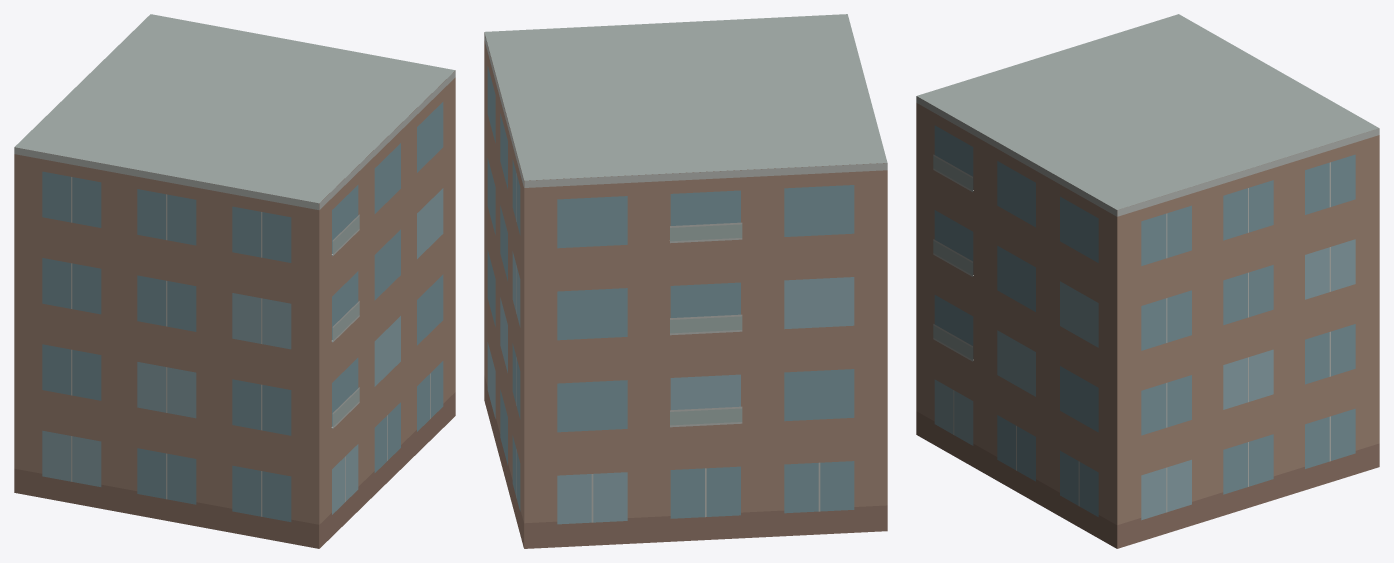
The model's file is survey-upis-32711302.glb.
3 views of the same model, side by side, from view 1: azimuth 30°, elevation 25°; view 2: azimuth 150°, elevation 25°; view 3: azimuth 270°, elevation 25° (orthographic). The views are drawn at different scales.
Parts seen in each view (by area): view 1: survey-upis-32711302.tmp; view 2: survey-upis-32711302.tmp; view 3: survey-upis-32711302.tmp.
Boxes of the visible parts, x1,y1,x2,y2 form: survey-upis-32711302.tmp: (14,14,455,548); survey-upis-32711302.tmp: (484,14,887,548); survey-upis-32711302.tmp: (916,14,1379,548).
Bounding box in the file's own units: 15.15 × 12.2 × 15.12.
